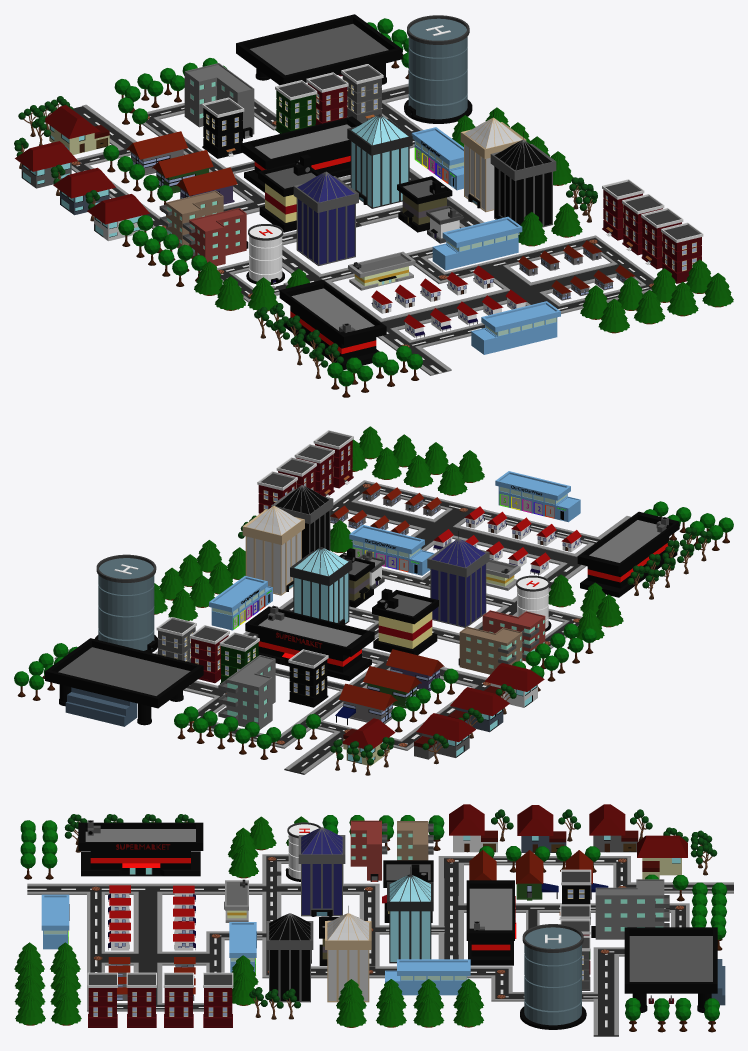
The model's file is WIL Layout.fbx.
3 views of the same model, one above another, from view 1: azimuth 30°, elevation 25°; view 2: azimuth 150°, elevation 25°; view 3: azimuth 270°, elevation 25° (orthographic). The views are drawn at different scales.
Parts seen in each view (by area): view 1: Cube.018, Cube.009, Cube.002, Cube.028, Cube.024, Cube.014, Cube.020, Cylinder.001, Cube.003, Cube.021, Cylinder.007, Cube.001 (+21 smaller); view 2: Cube.009, Cube.018, Cube.014, Cube.024, Cube.020, Cube.002, Cube.028, Cylinder.001, Cube.021, Cube.001, Cylinder.007, Cube.023 (+20 smaller); view 3: Cube.009, Cube.018, Cube.001, Cube.002, Cube.020, Cube.014, Cube.024, Cube.003, Cylinder.001, Cylinder.004, Cylinder.007, Cube (+21 smaller).
Boxes of the visible parts, bbox=[...] form: Cube.018: bbox=[293, 114, 556, 265]; Cube.009: bbox=[241, 116, 415, 370]; Cube.002: bbox=[327, 235, 654, 375]; Cube.028: bbox=[202, 64, 383, 158]; Cube.024: bbox=[159, 63, 254, 265]; Cube.014: bbox=[236, 14, 402, 85]; Cube.020: bbox=[15, 105, 149, 241]; Cylinder.001: bbox=[404, 15, 472, 123]; Cube.003: bbox=[602, 179, 703, 283]; Cube.021: bbox=[258, 154, 463, 243]; Cylinder.007: bbox=[580, 259, 733, 333]; Cube.001: bbox=[71, 83, 422, 228]; Cube.009: bbox=[245, 511, 679, 680]; Cube.018: bbox=[271, 478, 489, 627]; Cube.014: bbox=[45, 638, 203, 726]; Cube.024: bbox=[218, 610, 545, 729]; Cube.020: bbox=[342, 663, 544, 766]; Cube.002: bbox=[330, 480, 630, 601]; Cube.028: bbox=[156, 617, 328, 707]; Cylinder.001: bbox=[95, 554, 157, 652]; Cube.021: bbox=[339, 548, 438, 655]; Cube.001: bbox=[54, 631, 490, 774]; Cylinder.007: bbox=[352, 426, 484, 495]; Cube.023: bbox=[335, 649, 444, 725]; Cube.009: bbox=[78, 820, 516, 965]; Cube.018: bbox=[266, 827, 433, 1002]; Cube.001: bbox=[438, 856, 733, 1036]; Cube.002: bbox=[27, 883, 262, 1011]; Cube.020: bbox=[449, 804, 687, 879]; Cube.014: bbox=[624, 927, 725, 1012]; Cube.024: bbox=[350, 820, 669, 939]; Cube.003: bbox=[87, 972, 233, 1027]; Cylinder.001: bbox=[520, 924, 586, 1029]; Cylinder.004: bbox=[336, 978, 483, 1027]; Cylinder.007: bbox=[14, 942, 81, 1025]; Cube: bbox=[262, 854, 438, 978].
Size of the model in its own units: 11383 by 2287 by 17009.
